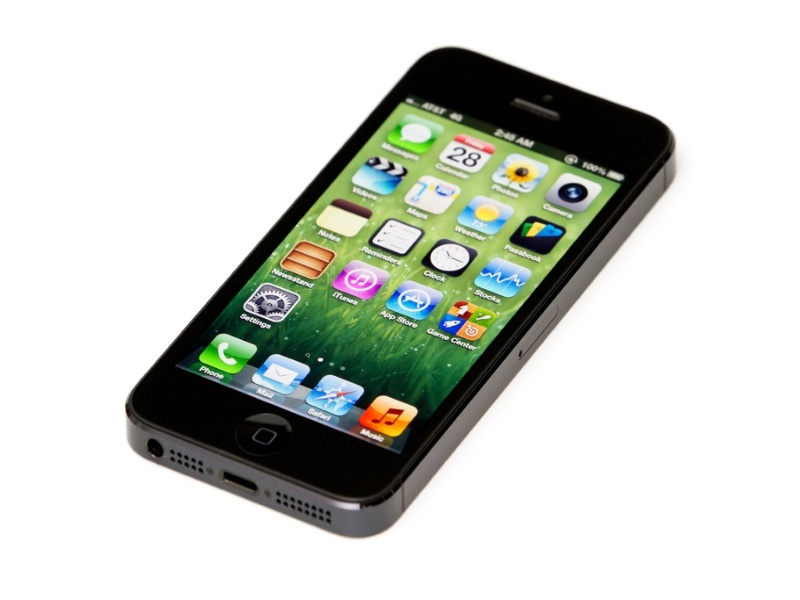cellphone: (111, 25, 695, 545)
